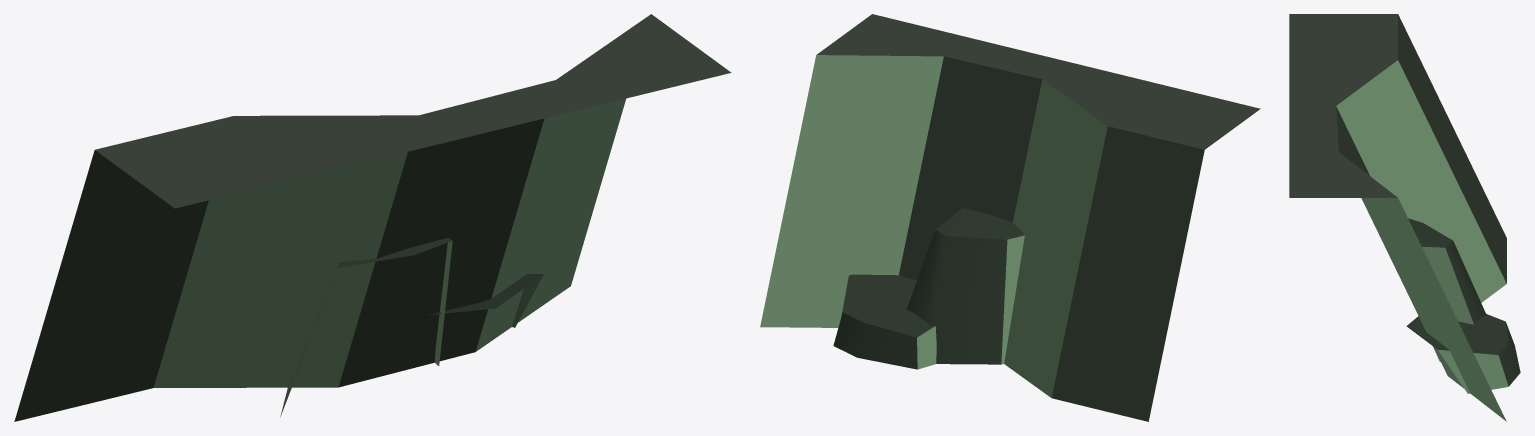
File: SF_Env_RockEdge_Straight_03.glb
The picture shows the model from 3 angles, left to right: view 1: azimuth 30°, elevation 25°; view 2: azimuth 150°, elevation 25°; view 3: azimuth 270°, elevation 25°; orthographic projection. The views are drawn at different scales.
Visible parts, largest first — view 1: SF_Env_RockEdge_Straight_03; view 2: SF_Env_RockEdge_Straight_03; view 3: SF_Env_RockEdge_Straight_03.
Part boxes in pixels (left/top/right/bottom): SF_Env_RockEdge_Straight_03: left=14, top=14, right=731, bottom=421; SF_Env_RockEdge_Straight_03: left=760, top=14, right=1260, bottom=421; SF_Env_RockEdge_Straight_03: left=1289, top=14, right=1520, bottom=421.
Bounding box in the file's own units: 0.1 × 0.0568 × 0.0532.
1 material, 1 textured.
